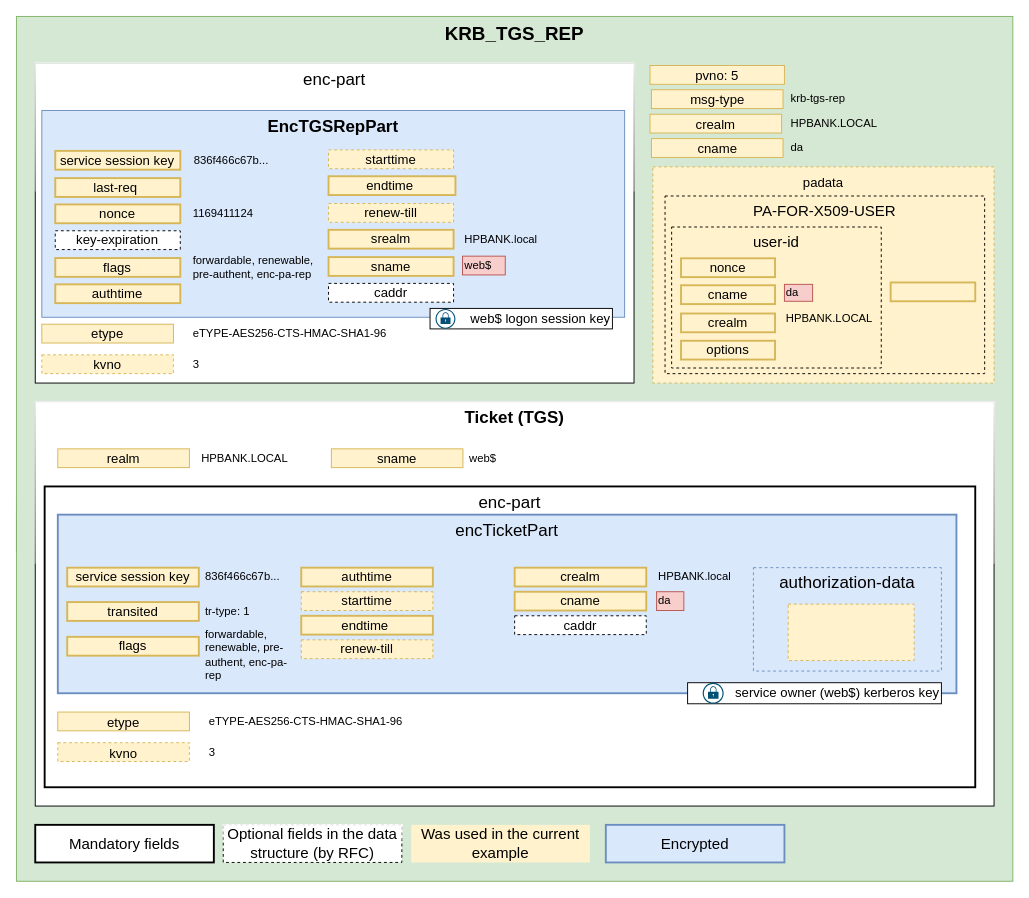
The diagram is 1029 pixels wide and 898 high, and some of its shapes have lost their labels. Here are the shapes that lost their labels. From the top down, the centre of each, then its label:
[932,291]: cksum
[850,632]: PAC (da)
